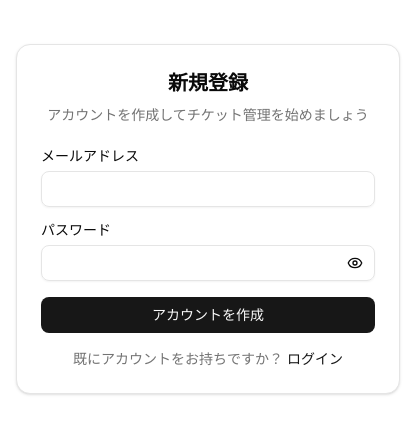
Test case: SignupPage › 無効な入力でバリデーションエラーを表示する
Expected: the heading "新規登録" is shown, top-left (168, 72), bottom-right (248, 94)
Click the button "アカウントを作成" at (208, 315), box top-left (41, 297), bottom-right (375, 333)
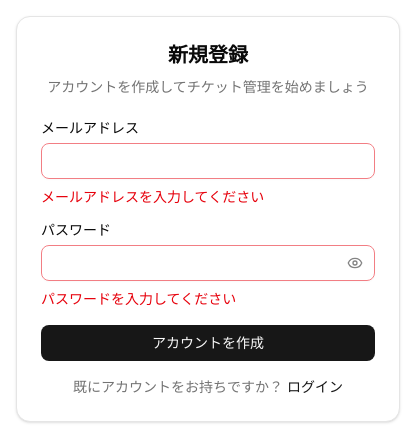
Expected: the text "メールアドレスを入力してください" is shown, top-left (41, 189), bottom-right (264, 205)
Expected: the text "パスワードを入力してください" is shown, top-left (41, 291), bottom-right (236, 307)
